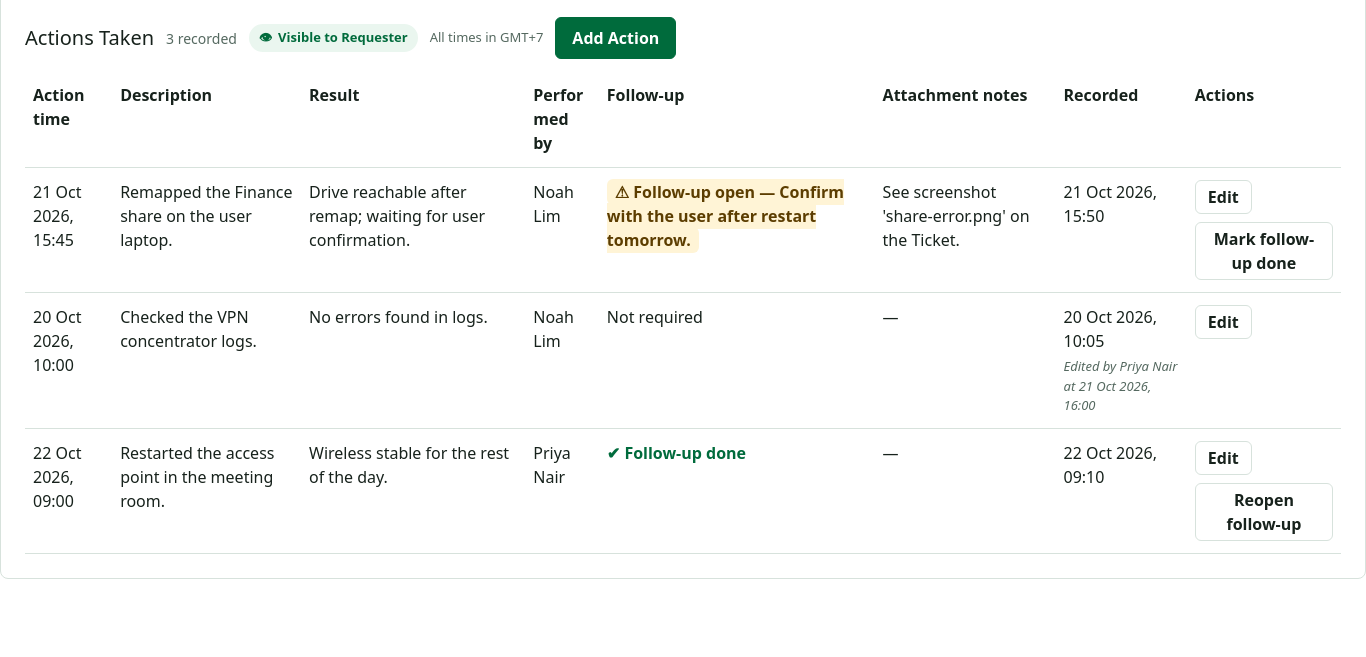
Test: UI-06: edit mode and follow-up completion › UI-06: Edit opens the prefilled form and PATCH sends expectedVersion from state; list refreshes
The width and height of the screenshot is (1366, 657).
Expected: the text "Remapped the Finance share on the user laptop." is shown, [112, 168, 301, 292]
Click the button "Edit" in the row of "21 Oct 2026, 15:45" at (1223, 197), box [1195, 180, 1252, 214]
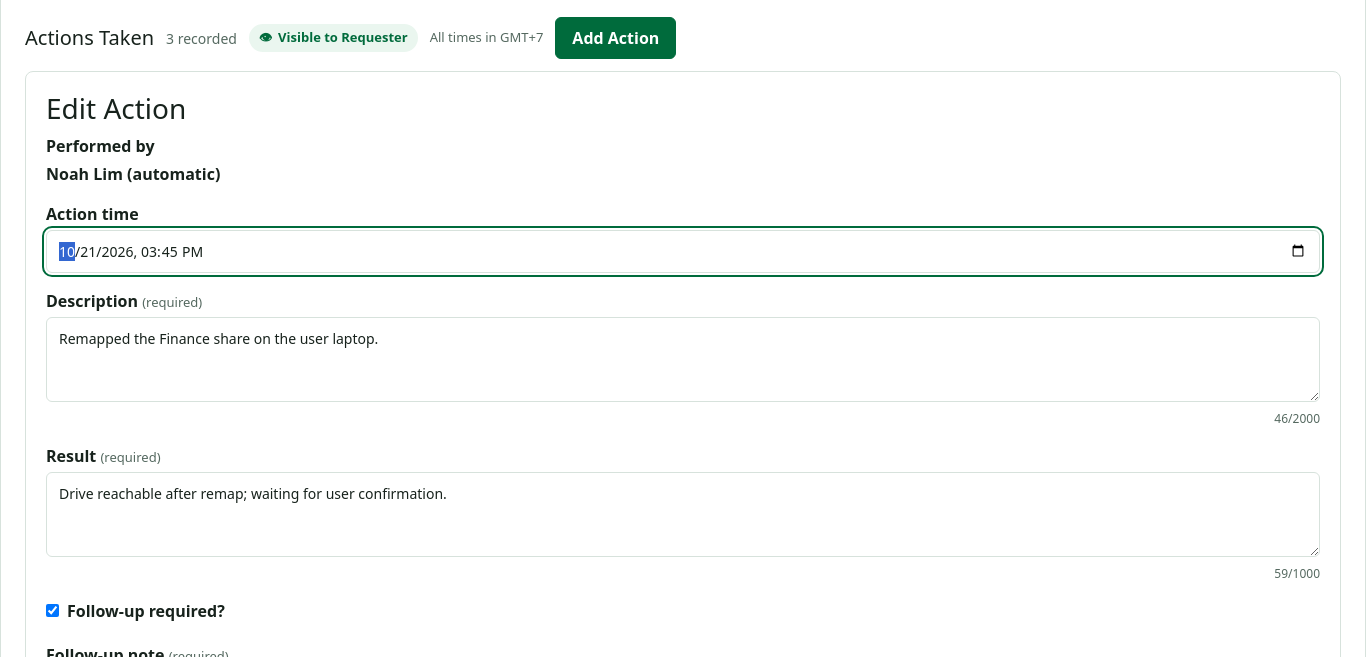
Result: the text box labelled "Description (required)" holds "Remapped the Finance share on the user laptop." at [46, 317, 1320, 402]
Result: the text "Noah Lim (automatic)" is shown at [46, 163, 220, 185]
Result: the checkbox labelled "Follow-up required?" is checked at [46, 604, 59, 617]
Replace the text in the text box labelled "Result (required)" with "User confirmed the drive is reachable." at (683, 514), box [46, 472, 1320, 557]
(page scrolled)
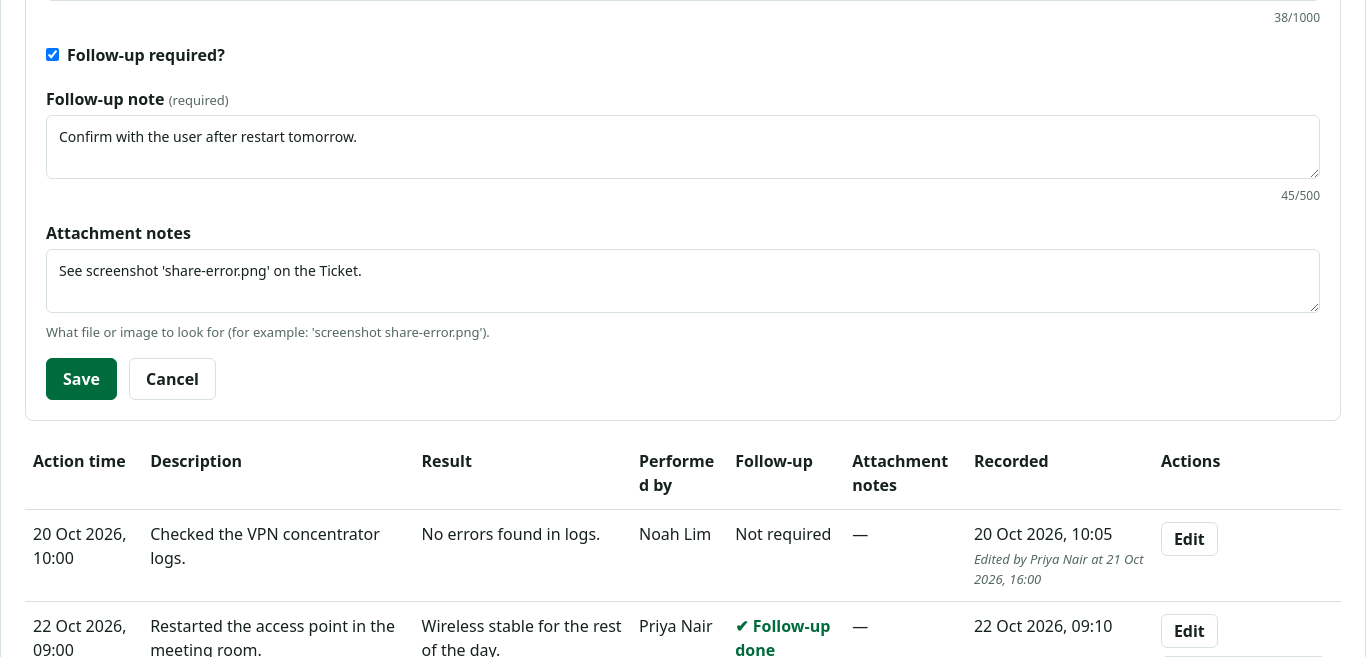
Click the button "Save" at (82, 379), box [46, 358, 117, 400]
(page scrolled)
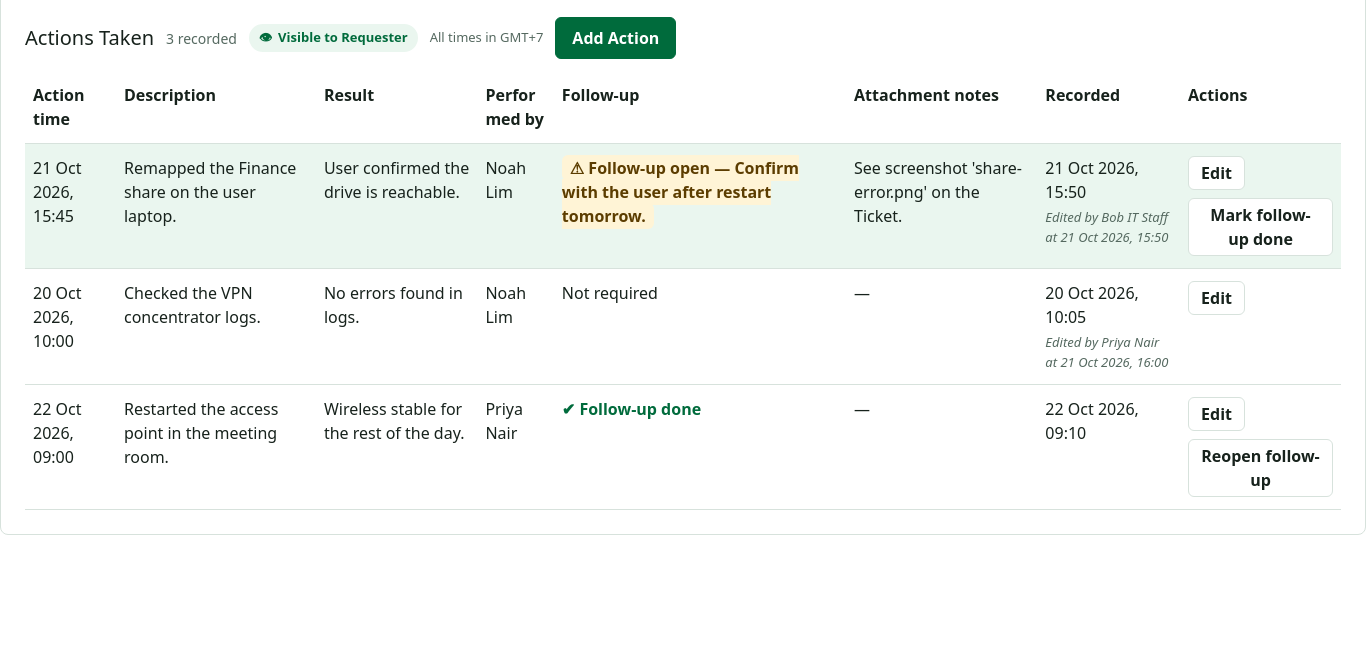
Result: the text "User confirmed the drive is reachable." is shown at [316, 144, 477, 268]
